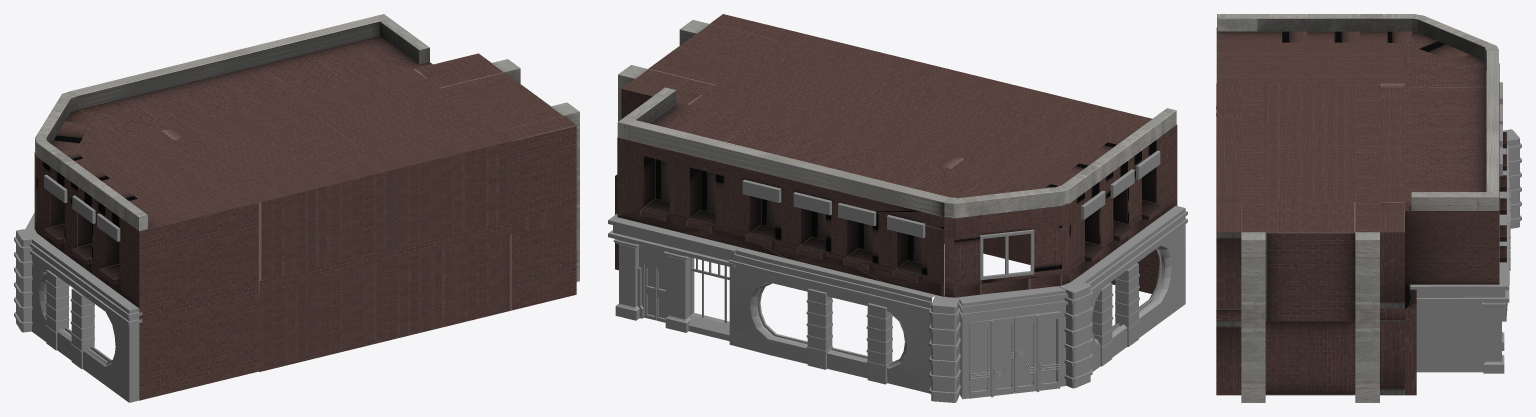
The model's file is Cafe80's_Bookstore.FBX.
3 renders of one model, left to right at view 1: azimuth 30°, elevation 25°; view 2: azimuth 150°, elevation 25°; view 3: azimuth 270°, elevation 25°, orthographic. The views are drawn at different scales.
Parts seen in each view (by area): view 1: Cafe80s_BackArea001, Cafe'80_UpperLevel_005, Cafe'80&Bookstore_UpperLevel_Window001, Roof_Trim001, Cafe80's_Window_003, Cafe80s_Collum001, Cafe'80_UpperLevel_004, Cafe80's_MainCollum 001, Conreate_Trim001; view 2: Cafe80s_BackArea001, Cafe'80&Bookstore_UpperLevel_Window001, Cafe'80_UpperLevel_005, Roof_Trim001, Cafe80's_Window001, Cafe'80_UpperLevel_004, Cafe'80_DoorArch001, Cafe80s_Collum001, Cafe80's_Window_003, Cafe80's_MainCollum 001, BookStore_Collum001, Conreate_Trim001 (+7 smaller); view 3: Cafe80s_BackArea001, Cafe'80&Bookstore_UpperLevel_Window001, Cafe'80_UpperLevel_005, Roof_Trim001, Book_Store001, Cafe'80_UpperLevel_004, BookStore_Collum001, Cafe80's_MainCollum 001, Cafe80's_Window001, Conreate_Trim001.
Part boxes in pixels (x1,y1,x2,y2): Cafe80s_BackArea001: (162, 53, 579, 371); Cafe'80_UpperLevel_005: (36, 131, 258, 400); Cafe'80&Bookstore_UpperLevel_Window001: (79, 36, 432, 138); Roof_Trim001: (35, 14, 429, 231); Cafe80's_Window_003: (30, 238, 142, 402); Cafe80s_Collum001: (45, 270, 94, 369); Cafe'80_UpperLevel_004: (34, 109, 125, 231); Cafe80's_MainCollum 001: (14, 228, 42, 332); Conreate_Trim001: (44, 174, 120, 241); Cafe80s_BackArea001: (615, 14, 1052, 270); Cafe'80&Bookstore_UpperLevel_Window001: (617, 102, 985, 296); Cafe'80_UpperLevel_005: (951, 94, 1177, 293); Roof_Trim001: (617, 87, 1176, 218); Cafe80's_Window001: (728, 247, 935, 393); Cafe'80_UpperLevel_004: (944, 178, 1069, 297); Cafe'80_DoorArch001: (959, 286, 1067, 399); Cafe80s_Collum001: (806, 263, 1139, 384); Cafe80's_Window_003: (1076, 205, 1187, 371); Cafe80's_MainCollum 001: (929, 278, 1092, 402); BookStore_Collum001: (613, 239, 694, 332); Conreate_Trim001: (742, 150, 1160, 238); Cafe80s_BackArea001: (1216, 83, 1416, 402); Cafe'80&Bookstore_UpperLevel_Window001: (1404, 63, 1506, 284); Cafe'80_UpperLevel_005: (1216, 27, 1411, 83); Roof_Trim001: (1217, 14, 1498, 210); Book_Store001: (1410, 229, 1509, 372); Cafe'80_UpperLevel_004: (1405, 32, 1499, 67); BookStore_Collum001: (1482, 302, 1505, 373); Cafe80's_MainCollum 001: (1503, 129, 1521, 228); Cafe80's_Window001: (1499, 145, 1509, 321); Conreate_Trim001: (1499, 82, 1502, 176).
Size of the model in its own units: 1198 by 447 by 699.
